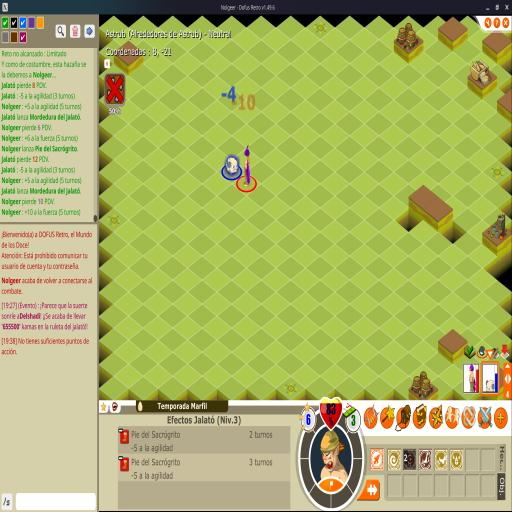Enemigos: (224, 156, 240, 177)
Personaje: (243, 145, 252, 187)
